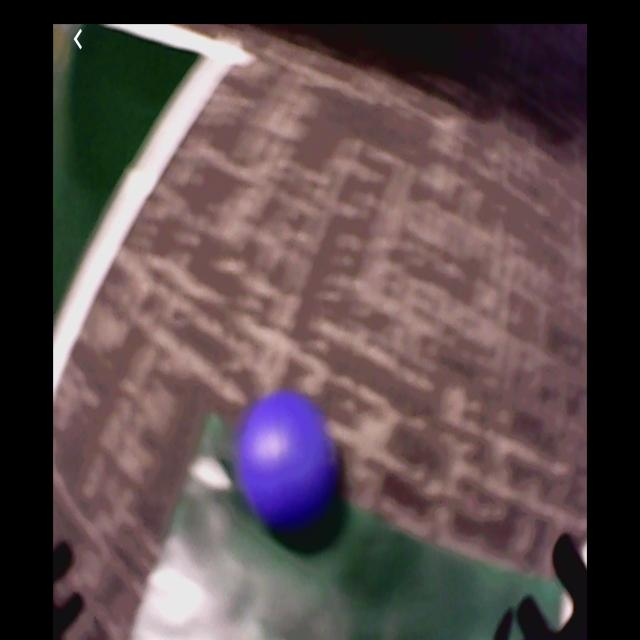ball: (238, 390, 341, 539)
